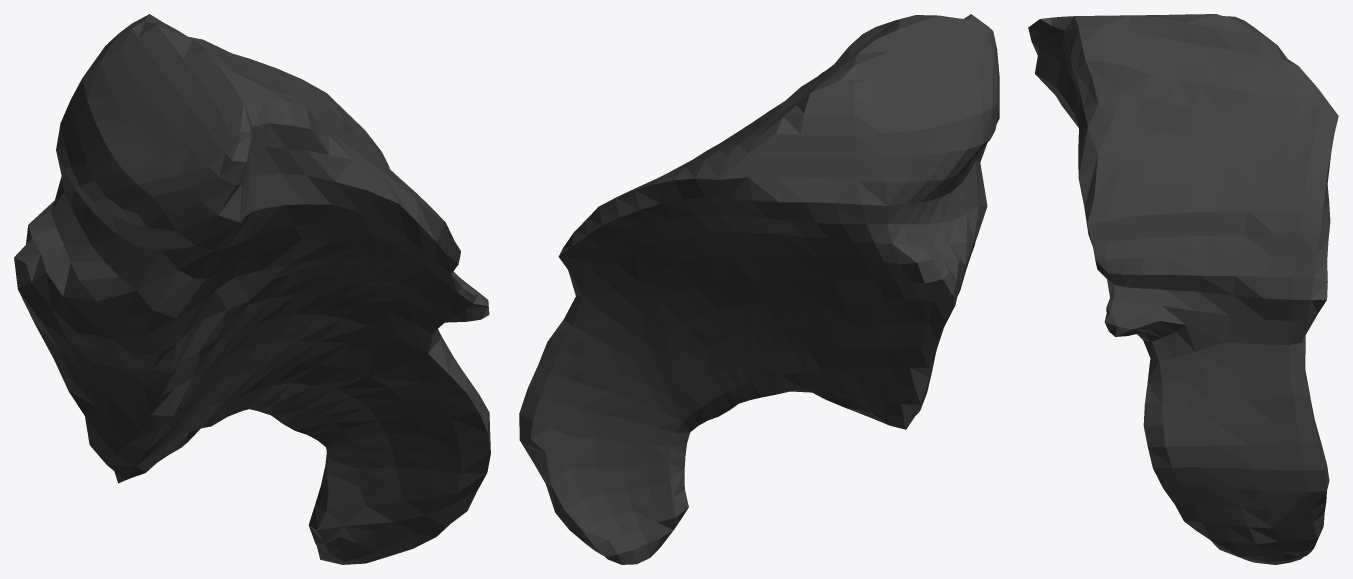
File: Accessory_lobe.glb
The picture shows the model from 3 angles, left to right: view 1: azimuth 30°, elevation 25°; view 2: azimuth 150°, elevation 25°; view 3: azimuth 270°, elevation 25°; orthographic projection. The views are drawn at different scales.
Visible parts, largest first — view 1: Accessory_lobe; view 2: Accessory_lobe; view 3: Accessory_lobe.
Boxes of the visible parts, box(x1,y1,x2,y2) form: Accessory_lobe: box(14, 14, 490, 564); Accessory_lobe: box(519, 14, 999, 564); Accessory_lobe: box(1028, 14, 1338, 564).
Bounding box in the file's own units: 0.842 × 1.09 × 0.6582.
1 material, 1 textured.
